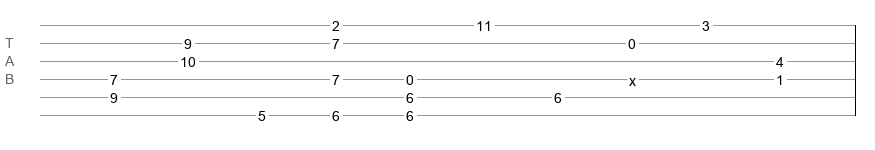0: (406, 72, 414, 82), (628, 36, 636, 46)
1: (776, 72, 784, 82)
10: (180, 54, 196, 64)
11: (476, 18, 492, 28)
2: (332, 18, 340, 28)
3: (702, 18, 710, 28)
4: (776, 54, 784, 64)
5: (258, 108, 266, 118)
6: (332, 108, 340, 118), (406, 90, 414, 100), (406, 108, 414, 118), (554, 90, 562, 100)
7: (110, 72, 118, 82), (332, 36, 340, 46), (332, 72, 340, 82)
9: (110, 90, 118, 100), (184, 36, 192, 46)
x: (629, 73, 636, 81)
